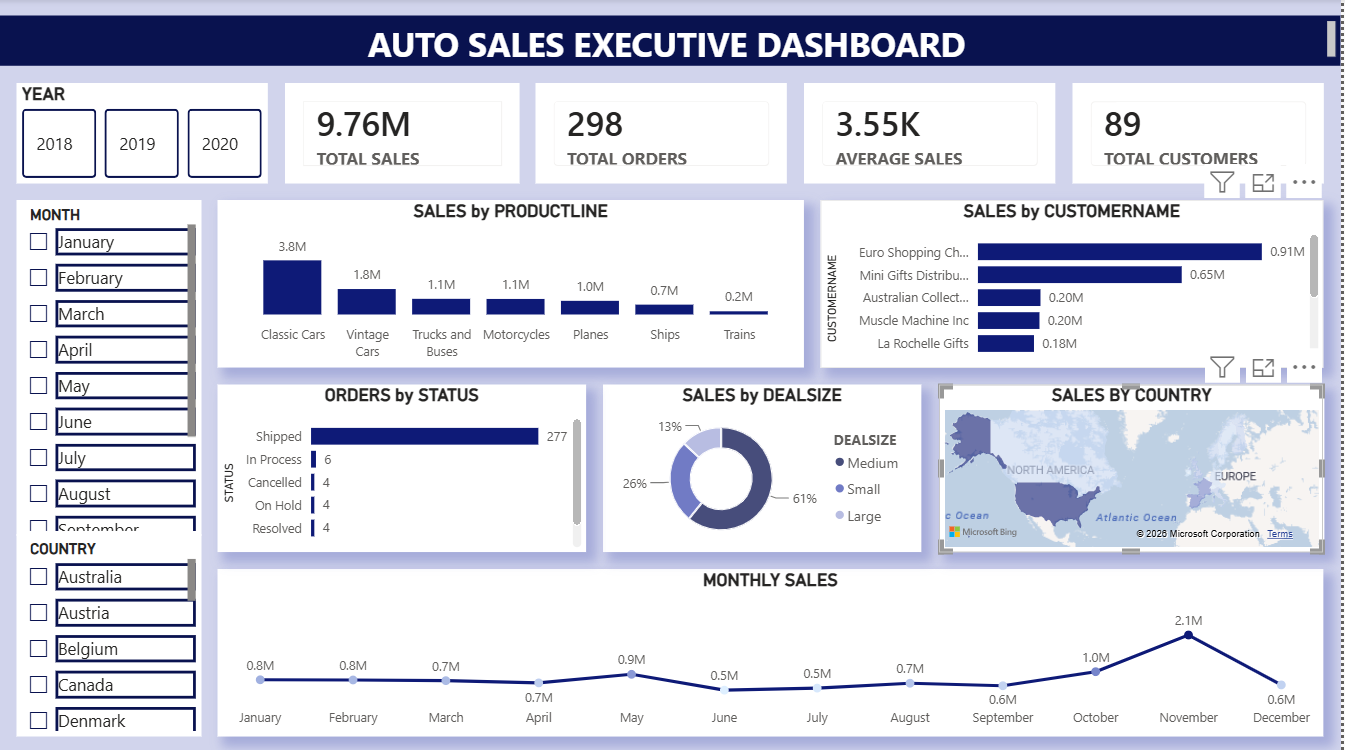

Layout of this report page (visuals, bound fields, positions):
{"tool":"powerbi","page":{"name":"Page 1","canvas":[1280,720],"ordinal":0},"visuals":[{"type":"cardVisual","fields":{"Data":["Sum(sales auto_sales.SALES)"]},"box":[272,80,224,96],"z":0},{"type":"cardVisual","fields":{"Data":["Count(sales auto_sales.ORDERNUMBER)"]},"box":[512,80,240,96],"z":1000},{"type":"cardVisual","fields":{"Data":["Avg(sales auto_sales.SALES)"]},"box":[768,80,240,96],"z":2000},{"type":"cardVisual","fields":{"Data":["Count(sales auto_sales.CUSTOMERNAME)"]},"box":[1024,80,240,96],"z":3000},{"type":"lineChart","title":"MONTHLY SALES","fields":{"Category":["sales auto_sales.ORDERDATE.Variation.Date Hierarchy.Month"],"Y":["Sum(sales auto_sales.SALES)"]},"box":[208,544,1056,160],"z":4000},{"type":"clusteredColumnChart","title":"SALES by PRODUCTLINE","fields":{"Category":["sales auto_sales.PRODUCTLINE"],"Y":["Sum(sales auto_sales.SALES)"]},"box":[208,192,560,160],"z":5000},{"type":"barChart","title":"SALES by CUSTOMERNAME","fields":{"Category":["sales auto_sales.CUSTOMERNAME"],"Y":["Sum(sales auto_sales.SALES)"]},"box":[784,192,480,160],"z":6000},{"type":"donutChart","title":" SALES by DEALSIZE","fields":{"Y":["Sum(sales auto_sales.SALES)"],"Category":["sales auto_sales.DEALSIZE"]},"box":[576,368,304,160],"z":7000},{"type":"slicer","fields":{"Values":["sales auto_sales.ORDERDATE.Variation.Date Hierarchy.Month"]},"box":[16,192,176,320],"z":8000},{"type":"slicer","fields":{"Values":["sales auto_sales.COUNTRY"]},"box":[16,512,176,192],"z":9000},{"type":"textbox","box":[0,16,1280,48],"z":11000},{"type":"advancedSlicerVisual","title":"YEAR","fields":{"Values":["sales auto_sales.ORDERDATE.Variation.Date Hierarchy.Year"]},"box":[16,80,240,96],"z":12000},{"type":"filledMap","title":"SALES BY COUNTRY","fields":{"Category":["sales auto_sales.COUNTRY"]},"box":[896,368,368,160],"z":13000},{"type":"barChart","title":"ORDERS by STATUS","fields":{"Y":["Count(sales auto_sales.ORDERNUMBER)"],"Category":["sales auto_sales.STATUS"]},"box":[208,368,352,160],"z":14000}]}

Visuals, with their boxes in screenshot pixels (x1, y1, x2, y2), scaled from the page's 1280x720 canvas onto the 1345x750 screenshot:
cardVisual - Sum(sales auto_sales.SALES): 286, 83, 521, 183
cardVisual - Count(sales auto_sales.ORDERNUMBER): 538, 83, 790, 183
cardVisual - Avg(sales auto_sales.SALES): 807, 83, 1059, 183
cardVisual - Count(sales auto_sales.CUSTOMERNAME): 1076, 83, 1328, 183
"MONTHLY SALES" lineChart: 219, 567, 1328, 733
"SALES by PRODUCTLINE" clusteredColumnChart: 219, 200, 807, 367
"SALES by CUSTOMERNAME" barChart: 824, 200, 1328, 367
" SALES by DEALSIZE" donutChart: 605, 383, 925, 550
slicer - sales auto_sales.ORDERDATE.Variation.Date Hierarchy.Month: 17, 200, 202, 533
slicer - sales auto_sales.COUNTRY: 17, 533, 202, 733
textbox: 0, 17, 1344, 67
"YEAR" advancedSlicerVisual: 17, 83, 269, 183
"SALES BY COUNTRY" filledMap: 942, 383, 1328, 550
"ORDERS by STATUS" barChart: 219, 383, 588, 550
